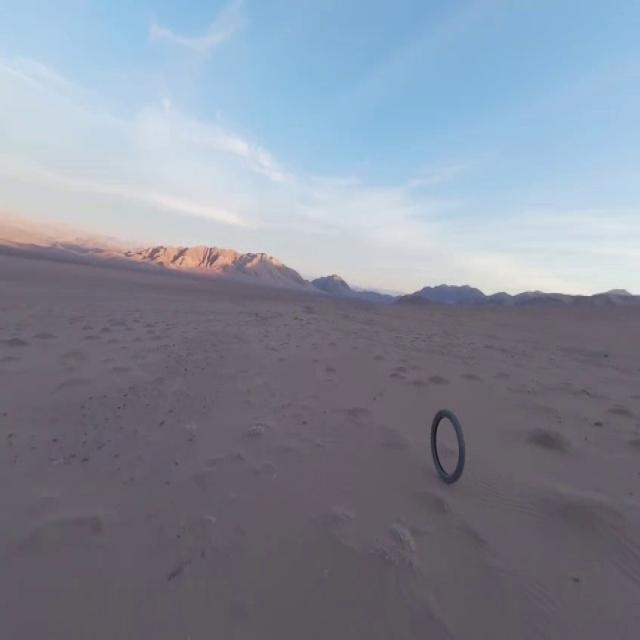Tire: (432, 410, 465, 483)
